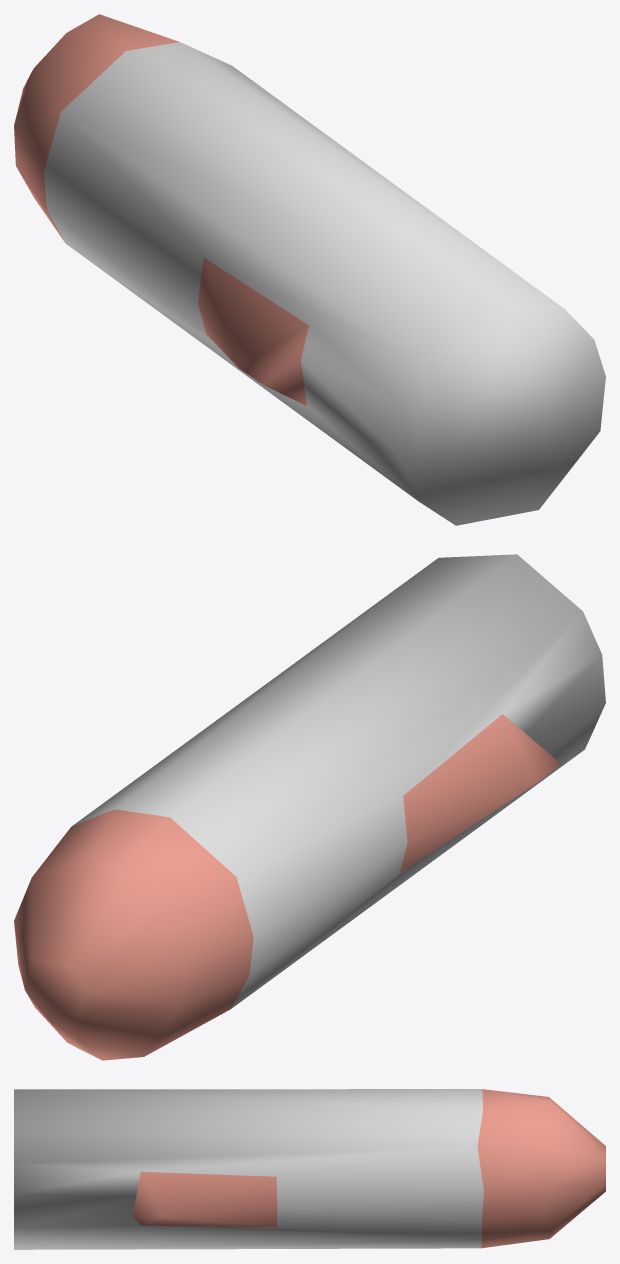
File: rocket.fbx
3 renders of one model, top to bottom at view 1: azimuth 30°, elevation 25°; view 2: azimuth 150°, elevation 25°; view 3: azimuth 270°, elevation 25°, orthographic. The views are drawn at different scales.
Visible parts, largest first — view 1: rocket; view 2: rocket; view 3: rocket.
Boxes of the visible parts, bbox=[...] form: rocket: bbox=[14, 14, 605, 525]; rocket: bbox=[14, 554, 605, 1060]; rocket: bbox=[14, 1089, 605, 1249].
Size of the model in its own units: 10.08 by 7.02 by 26.11.
